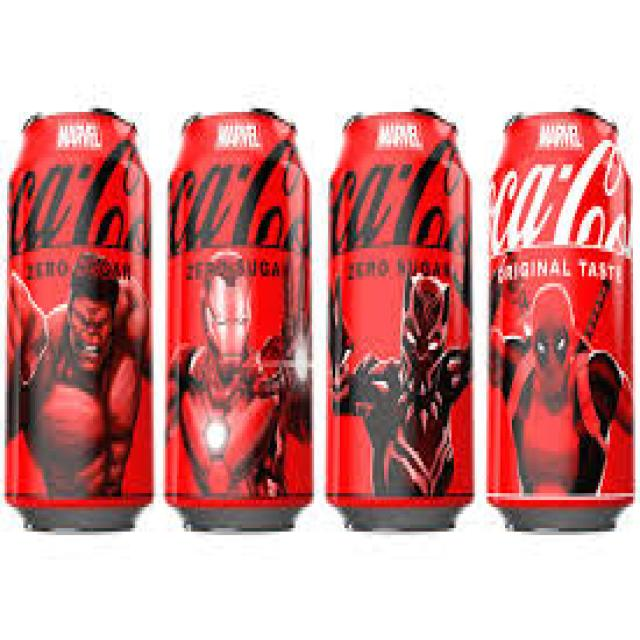Cans: (321, 102, 480, 546), (158, 101, 317, 538), (481, 104, 640, 538), (5, 105, 156, 542)
